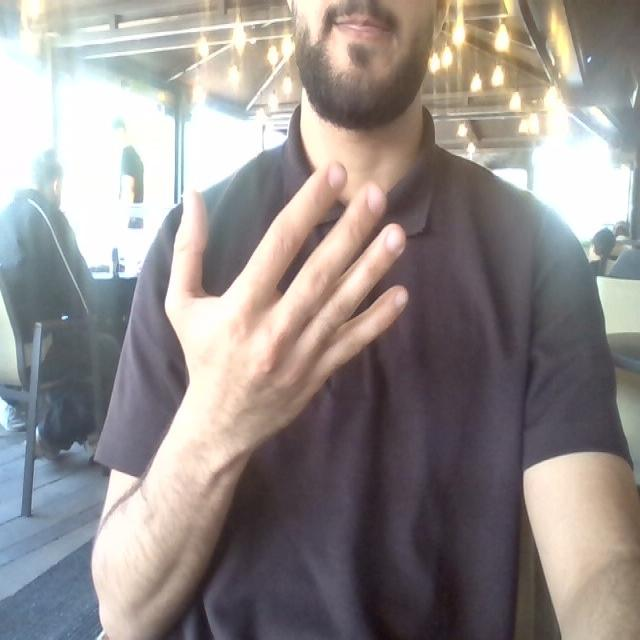Hand: (165, 163, 407, 446)
